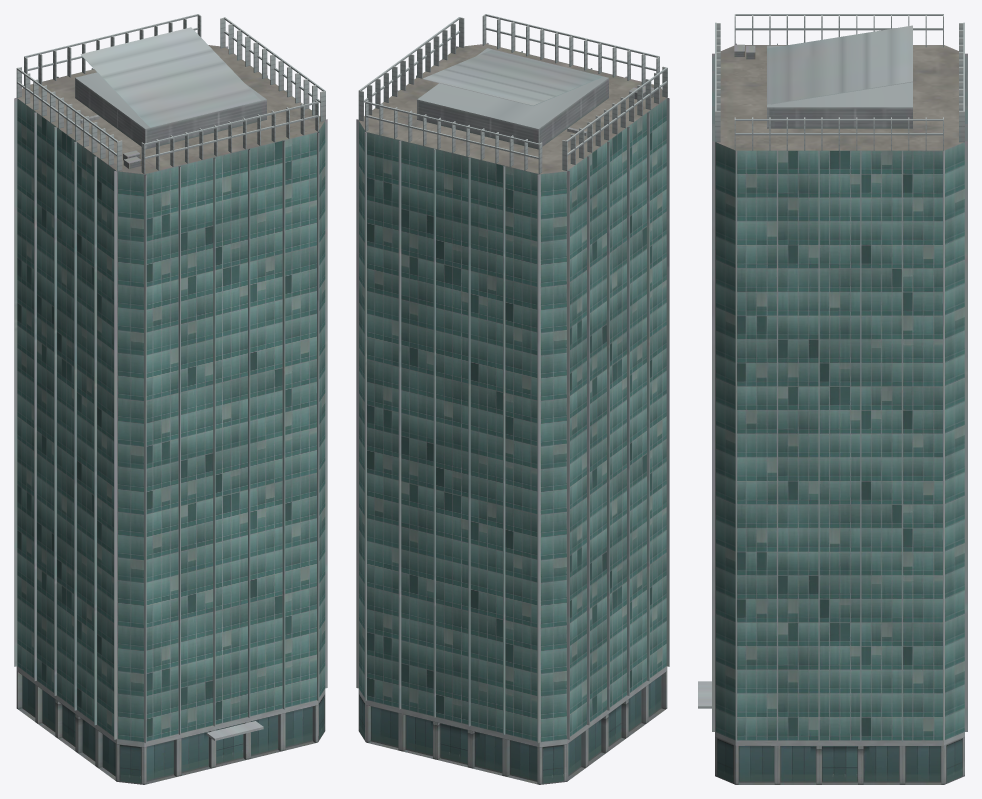
Rendered from sf_glassslab_c.glb.
The picture shows the model from 3 angles, left to right: view 1: azimuth 30°, elevation 25°; view 2: azimuth 150°, elevation 25°; view 3: azimuth 270°, elevation 25°; orthographic projection. The views are drawn at different scales.
Parts seen in each view (by area): view 1: sf_glassslab_c; view 2: sf_glassslab_c; view 3: sf_glassslab_c.
Part boxes in pixels (x1,y1,x2,y2): sf_glassslab_c: (14, 14, 327, 784); sf_glassslab_c: (356, 14, 669, 784); sf_glassslab_c: (698, 14, 967, 784).
Size of the model in its own units: 39.3 by 115 by 41.45.
Materials: 1 (1 with a texture image).
